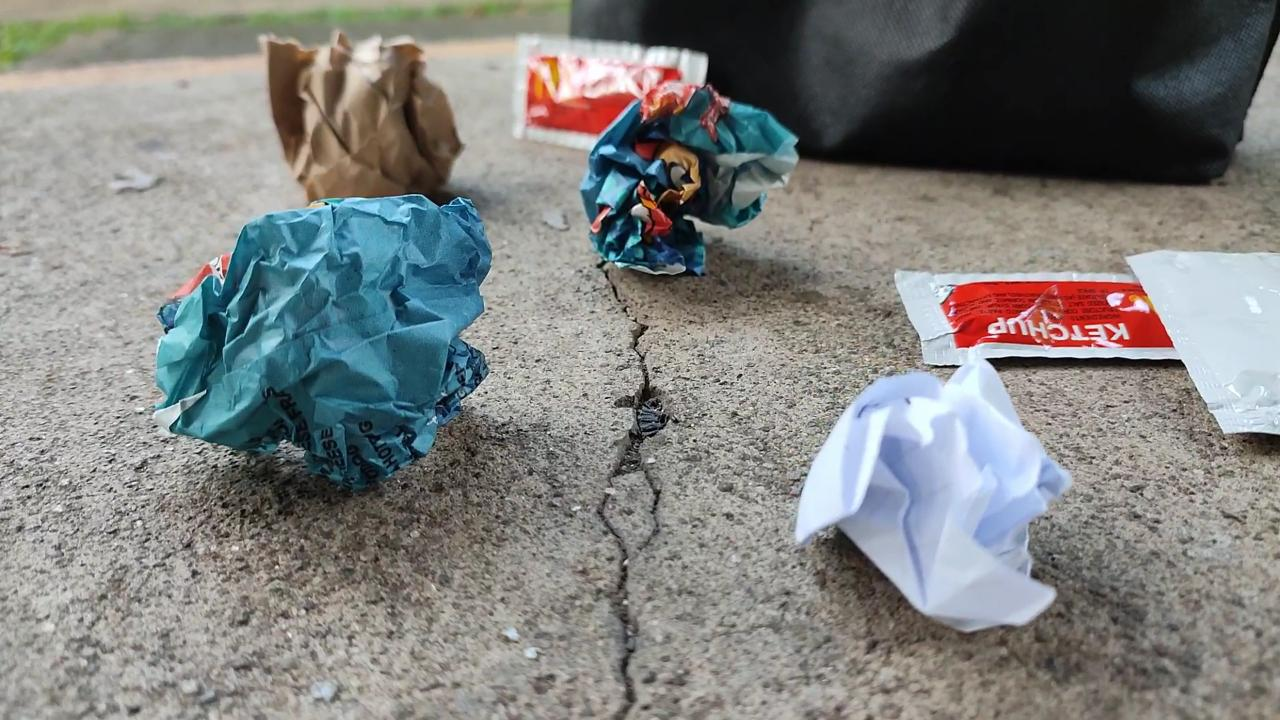Paper: (146, 195, 493, 484), (797, 350, 1091, 653), (584, 80, 806, 295), (251, 25, 473, 211)
